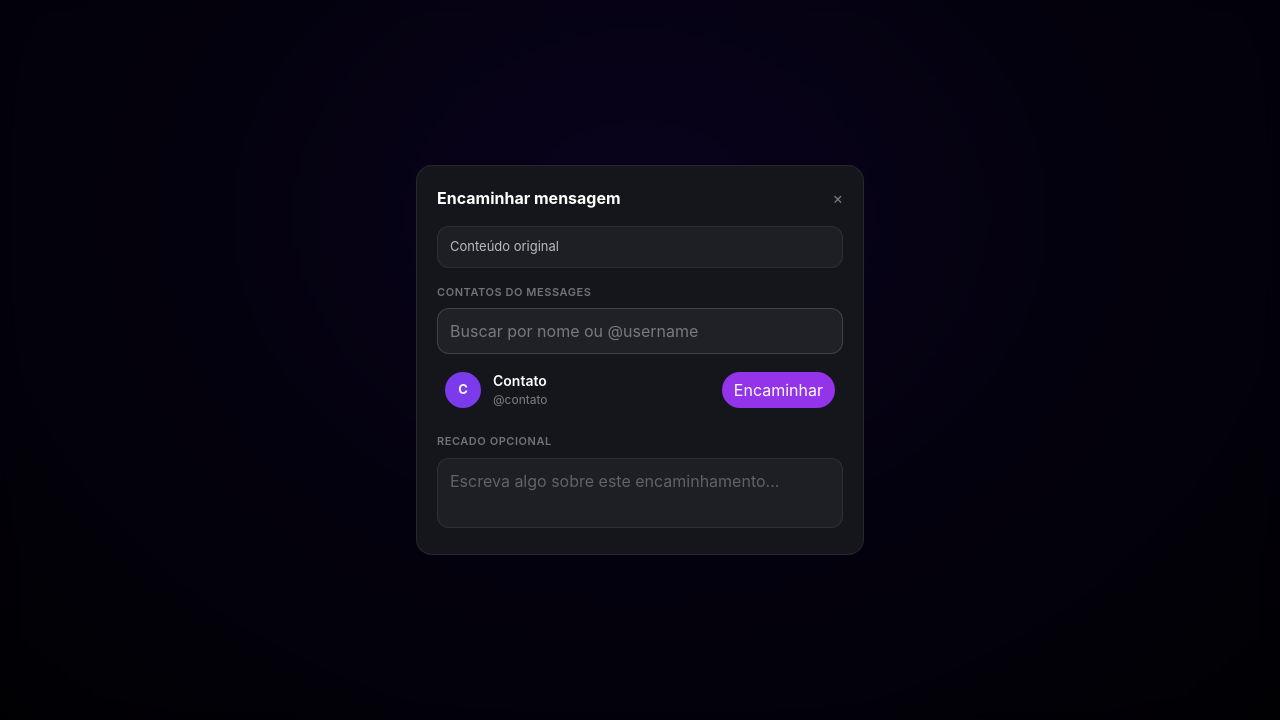
Scenario: forwarded message origin › sends the cloud origin with the original text
Click the button "Encaminhar". click: click(778, 390)
box: top-left (722, 372), bottom-right (835, 408)
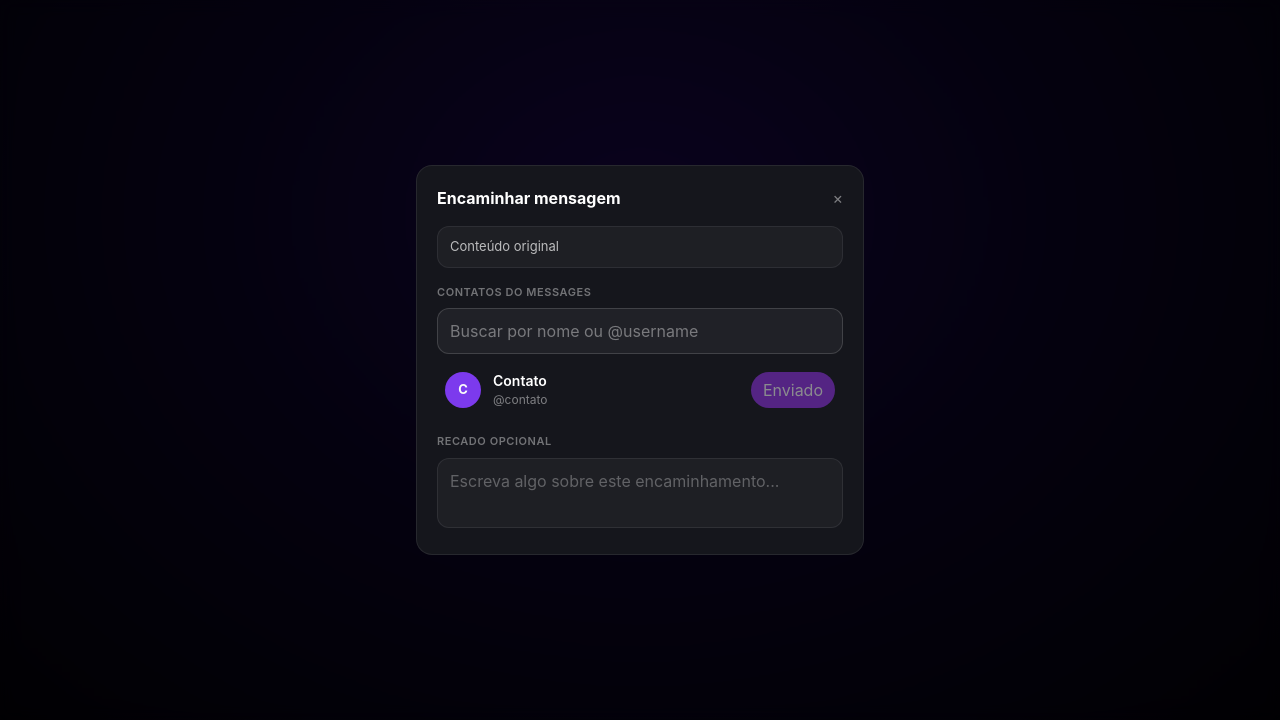
Result: the button "Enviado" is shown at top-left (751, 372), bottom-right (835, 408)
